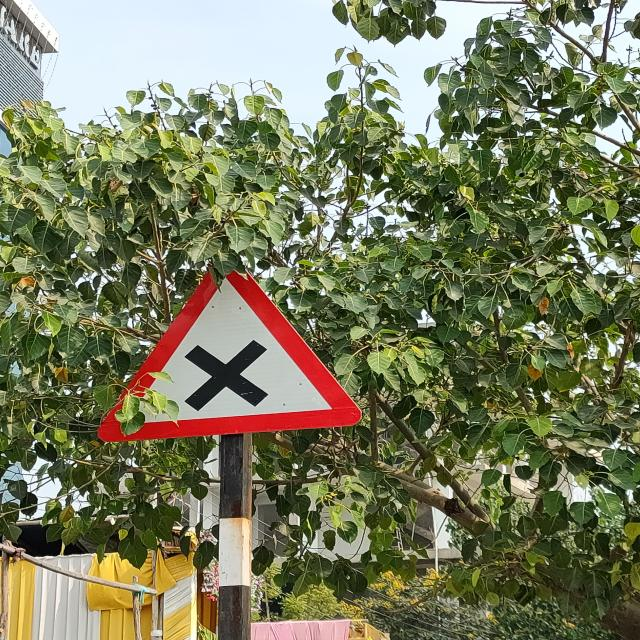cross_road: (92, 259, 366, 443)
